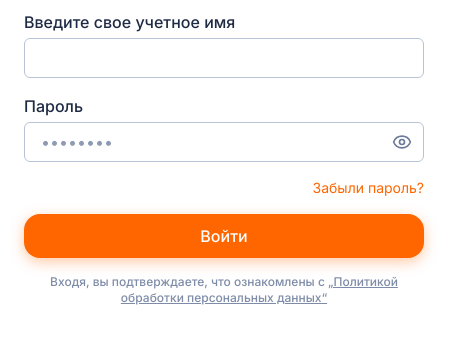
LoginForm › Client-side Validation › should show validation error for short password
This screenshot has width=449, height=350.
Type "test@example.com" into the field labelled "Введите свое учетное имя". click: (224, 58)
box: x1=24 y1=38 x2=424 y2=78
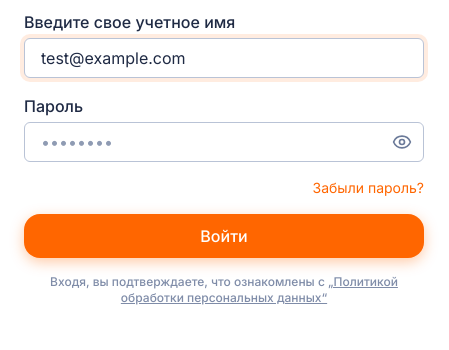
Type "short" into the password field labelled "Пароль". click: (224, 142)
box: x1=24 y1=122 x2=424 y2=162
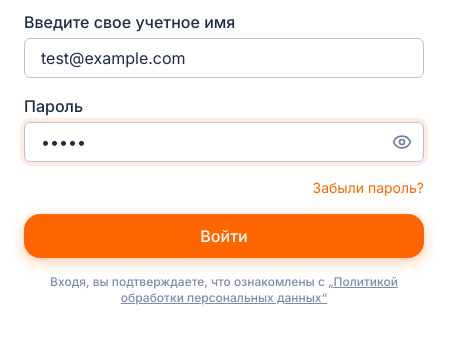
Click the button "Войти". click: click(224, 236)
box: x1=24 y1=214 x2=424 y2=258
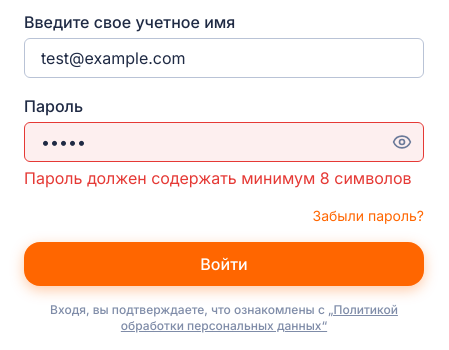
Check: the text "Пароль должен содержать минимум 8 символов" is shown, box x1=24 y1=166 x2=424 y2=190
